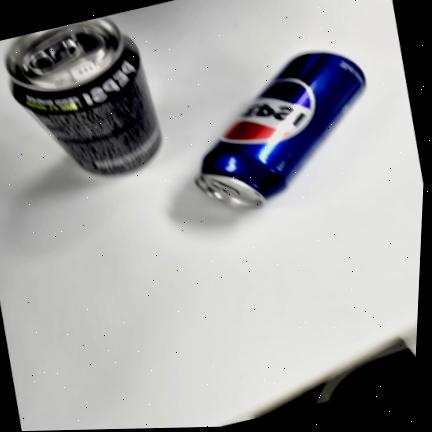can_pepsi: (199, 51, 371, 205)
can_pepsi_zero: (1, 16, 163, 177)
